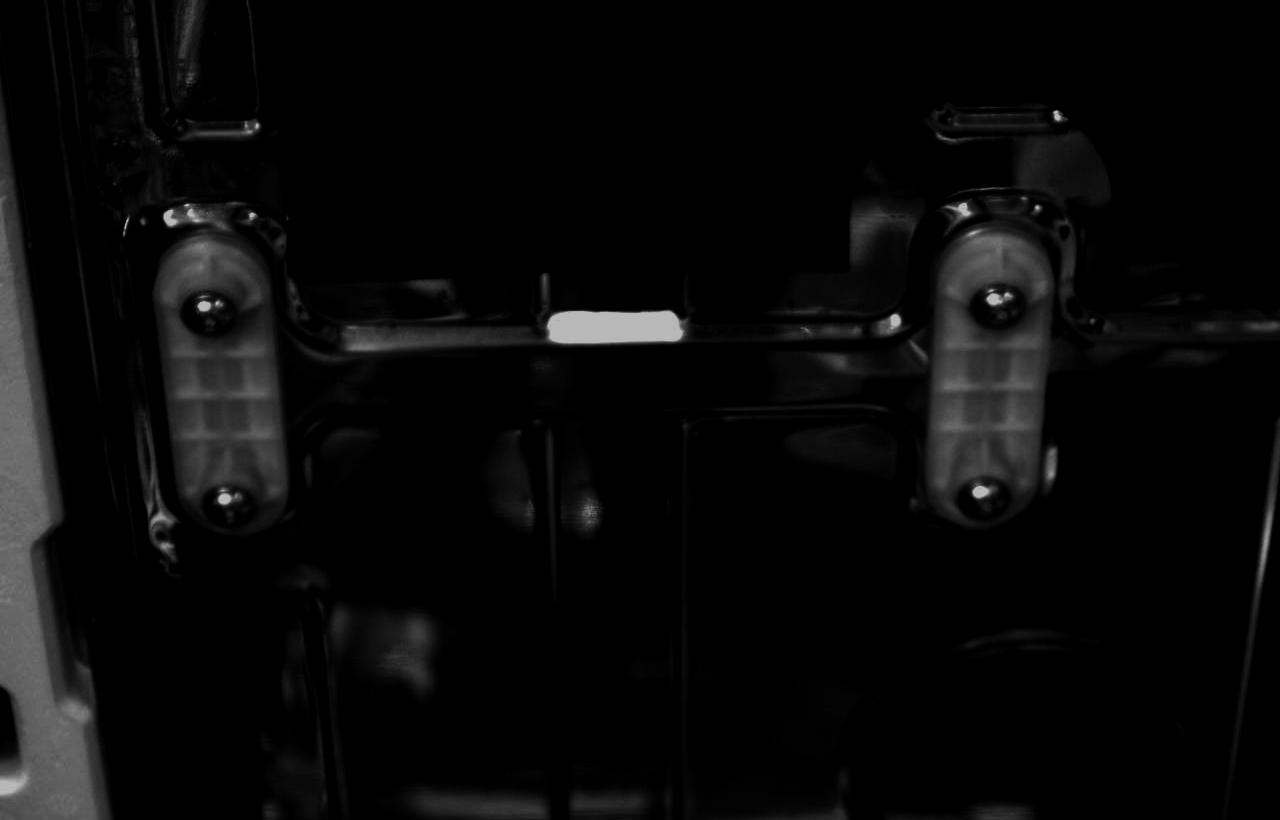vida-ok: (161, 267, 247, 345), (953, 269, 1040, 342), (188, 466, 269, 530), (948, 475, 1024, 533)
